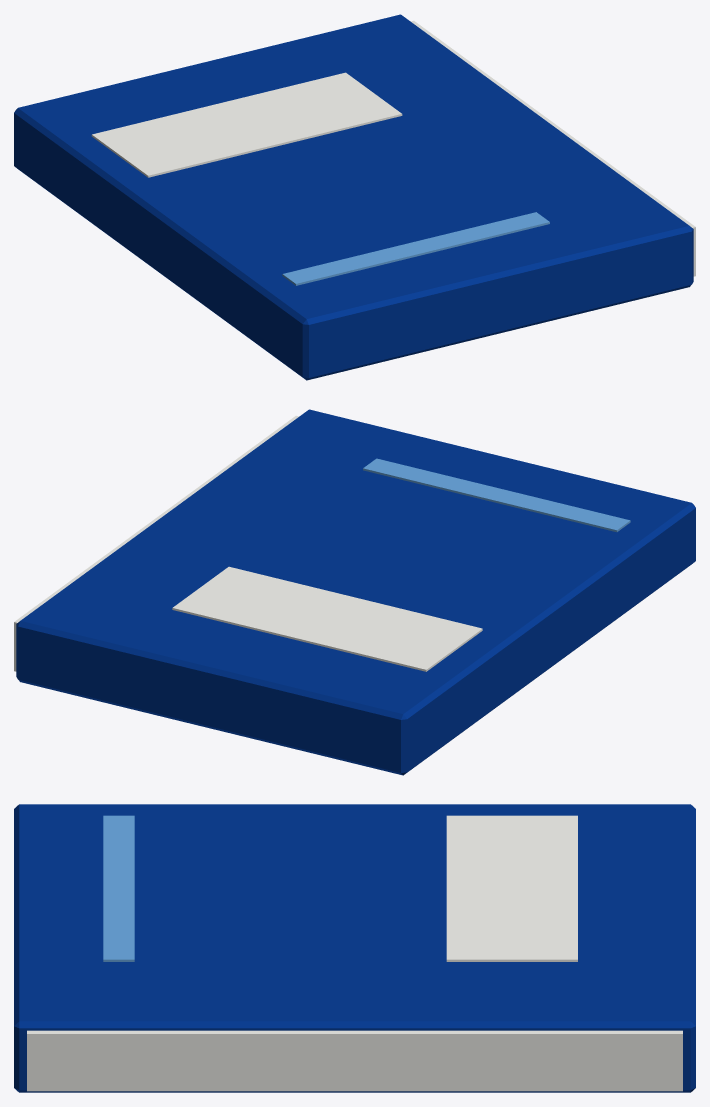
File: SM_Flot_Manual.fbx
3 renders of one model, top to bottom at view 1: azimuth 30°, elevation 25°; view 2: azimuth 150°, elevation 25°; view 3: azimuth 270°, elevation 25°, orthographic. The views are drawn at different scales.
Parts seen in each view (by area): view 1: SM_Flot_Manual; view 2: SM_Flot_Manual; view 3: SM_Flot_Manual.
Part boxes in pixels (x1,y1,x2,y2): SM_Flot_Manual: (14, 14, 695, 380); SM_Flot_Manual: (14, 409, 695, 775); SM_Flot_Manual: (14, 804, 695, 1092).
Bounding box in the file's own units: 0.203 × 0.0313 × 0.26.
